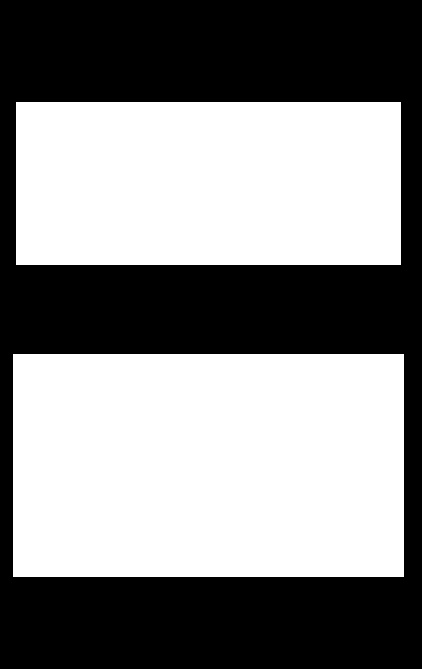table: (13, 354, 403, 576), (16, 102, 400, 264)
